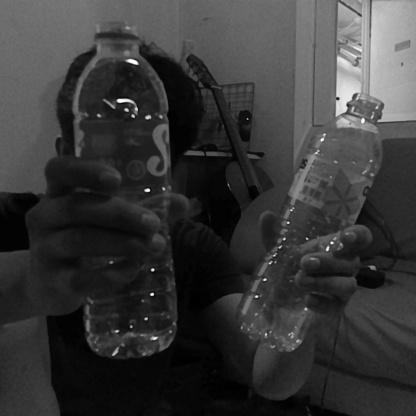plastic_bottles: (238, 93, 387, 342), (68, 23, 178, 360)
